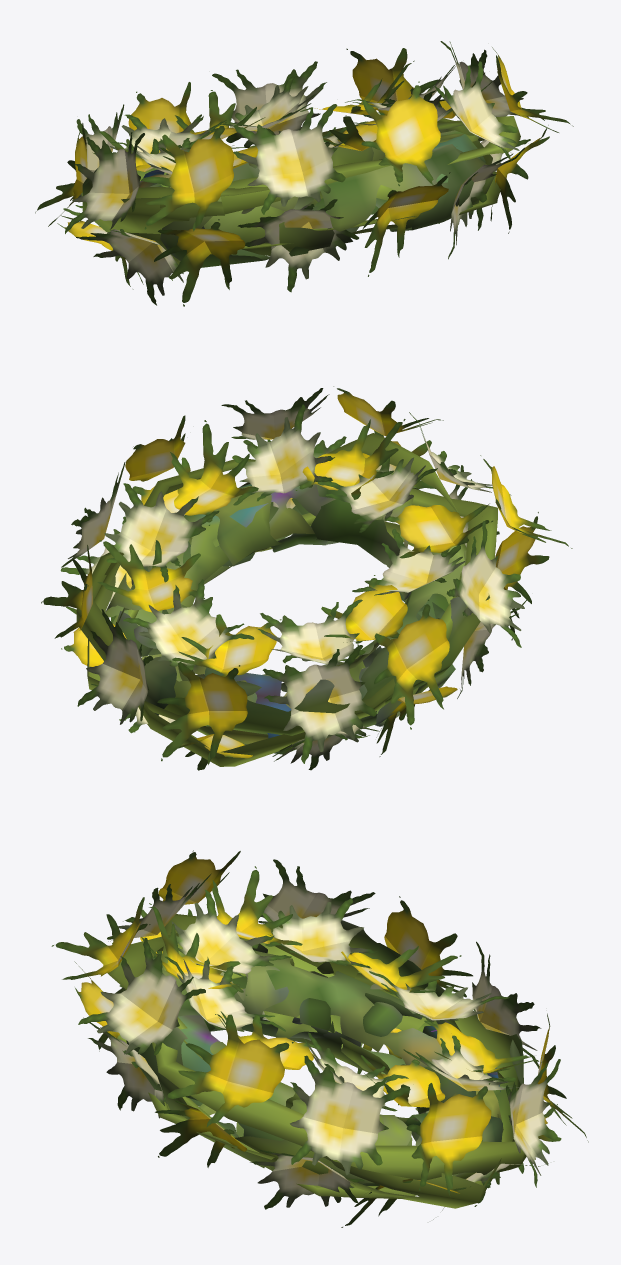
File: HelmetMidsummerCrown.fbx
The picture shows the model from 3 angles, top to bottom: view 1: azimuth 30°, elevation 25°; view 2: azimuth 150°, elevation 25°; view 3: azimuth 270°, elevation 25°; orthographic projection. The views are drawn at different scales.
Parts seen in each view (by area): view 1: helmet; view 2: helmet; view 3: helmet.
Boxes of the visible parts, x1=… form: helmet: x1=35, y1=41, x2=573, y2=306; helmet: x1=41, y1=386, x2=572, y2=770; helmet: x1=51, y1=850, x2=588, y2=1227.
Size of the model in its own units: 45.38 by 27.9 by 44.26.
1 material, 1 textured.
